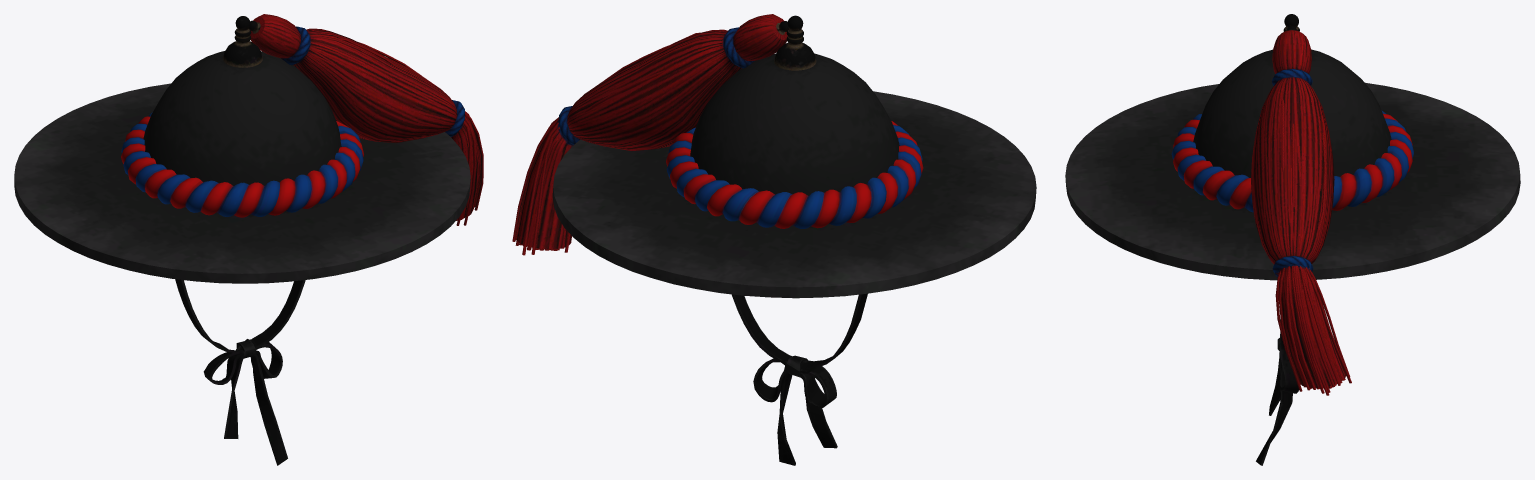
File: soilder_cap.dae
3 renders of one model, left to right at view 1: azimuth 30°, elevation 25°; view 2: azimuth 150°, elevation 25°; view 3: azimuth 270°, elevation 25°, orthographic. The views are drawn at different scales.
Visible parts, largest first — view 1: Soldier_Hat; view 2: Soldier_Hat; view 3: Soldier_Hat.
Part boxes in pixels (x1=…): Soldier_Hat: x1=14, y1=14, x2=483, y2=465; Soldier_Hat: x1=512, y1=14, x2=1036, y2=465; Soldier_Hat: x1=1065, y1=14, x2=1520, y2=465.
Bounding box in the file's own units: 3.71 × 3.3 × 3.52.
Materials: 1 (1 with a texture image).
